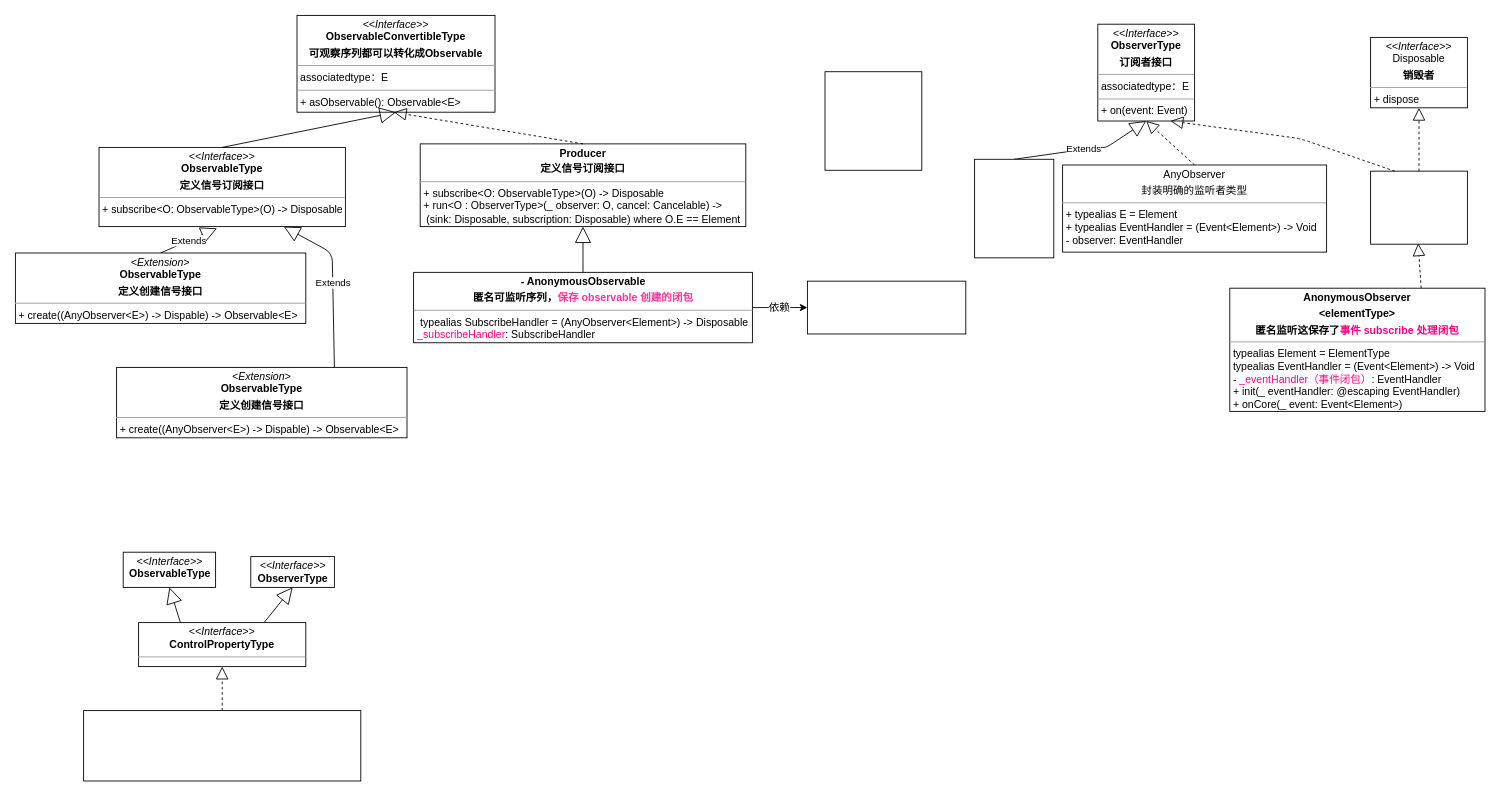
Some shapes in this 1500 by 796 pixel diagram are drawn without their labels. The shapes that lost their labels are listed below. From the top down, each one's centre as x and y in pixels, then its label:
(873,120): enum Event<Element> 事件类型 + next + complete + error
(1014,208): <Extension> ObserverType 事件处理 + onNext + onComplete + onError
(1418,207): ObserverBase <elementType> + dispose + on(event: Event)
(886,307): - AnonymousObservableSink 匿名可监听序列
(222,745): ControlProperty<PropertyType>
